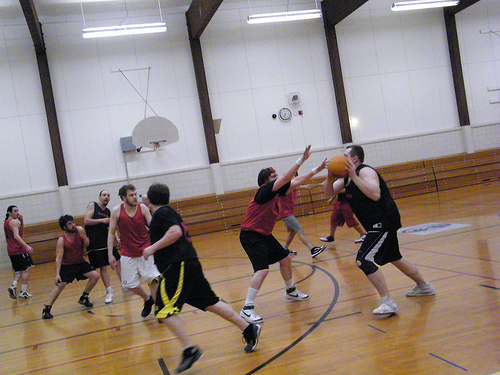basketball: (328, 155, 350, 178)
